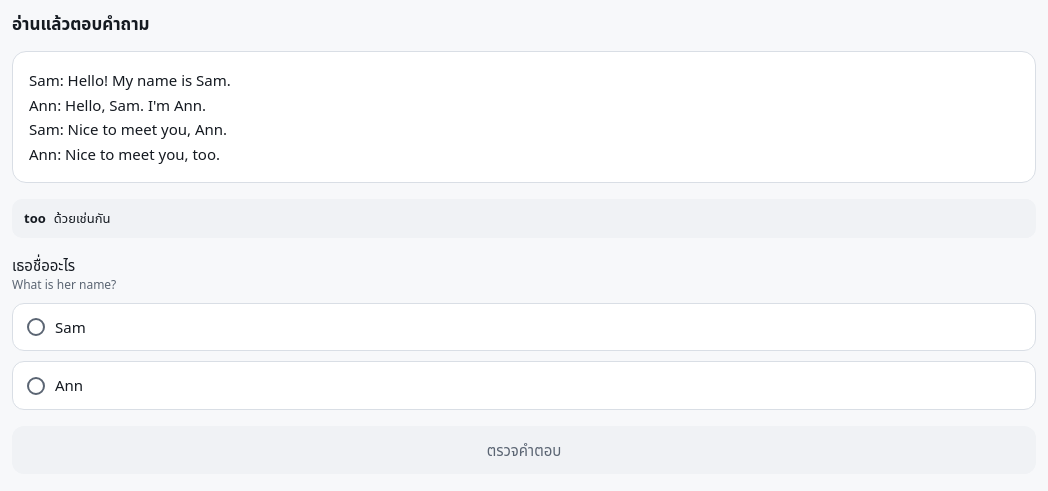
Test: ReadPassage › locks check until every question has an answer, and lets the learner change an answer
The width and height of the screenshot is (1048, 491).
Expected: the button "ตรวจคำตอบ" is disabled, [12,426,1036,474]
Click the radio button labelled "Sam" at point(70, 327), box [12,303,1036,351]
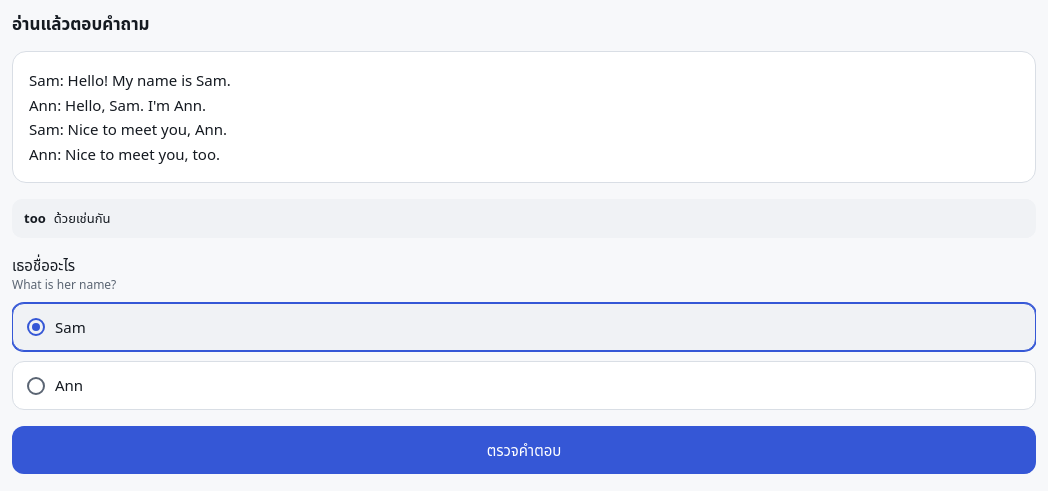
Now the button "ตรวจคำตอบ" is enabled, box [12,426,1036,474]
Click the radio button labelled "Ann" at point(36, 386), box [12,361,1036,410]
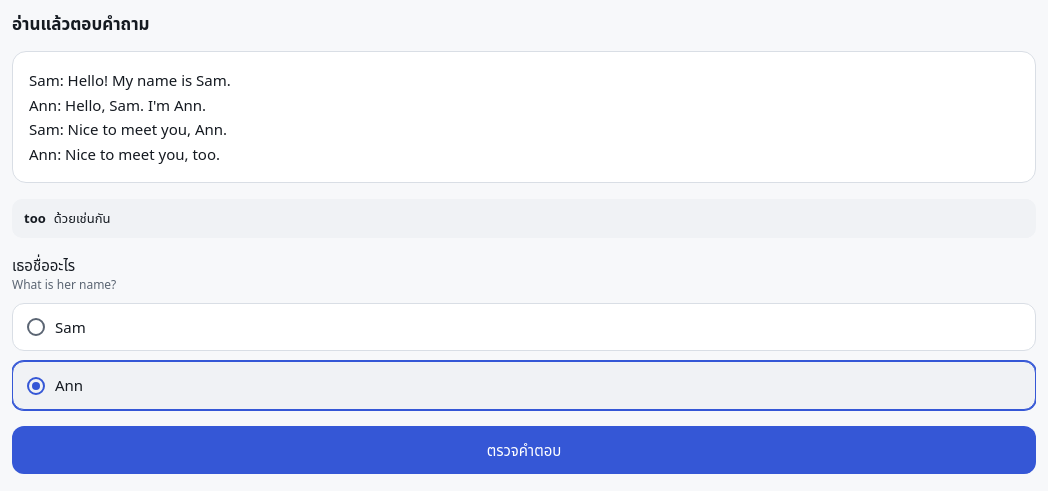
Now the radio button labelled "Ann" is checked, box [12,361,1036,410]
Now the radio button labelled "Sam" is not checked, box [12,303,1036,351]
